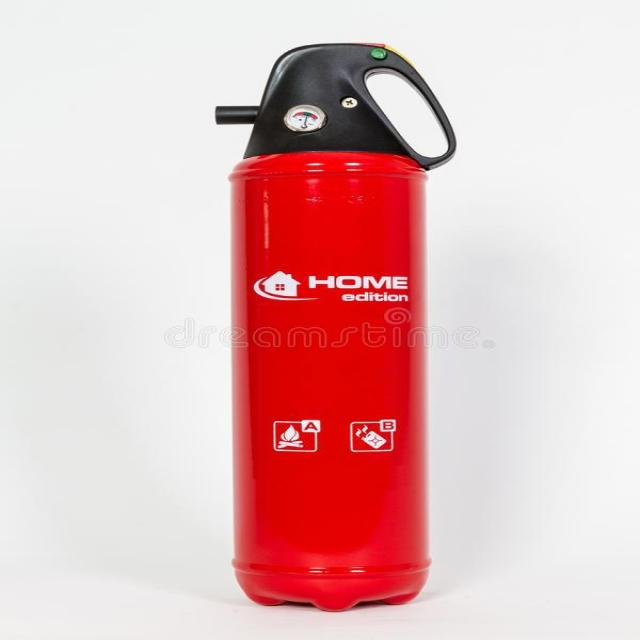fire_extinguisher: (205, 37, 465, 614)
